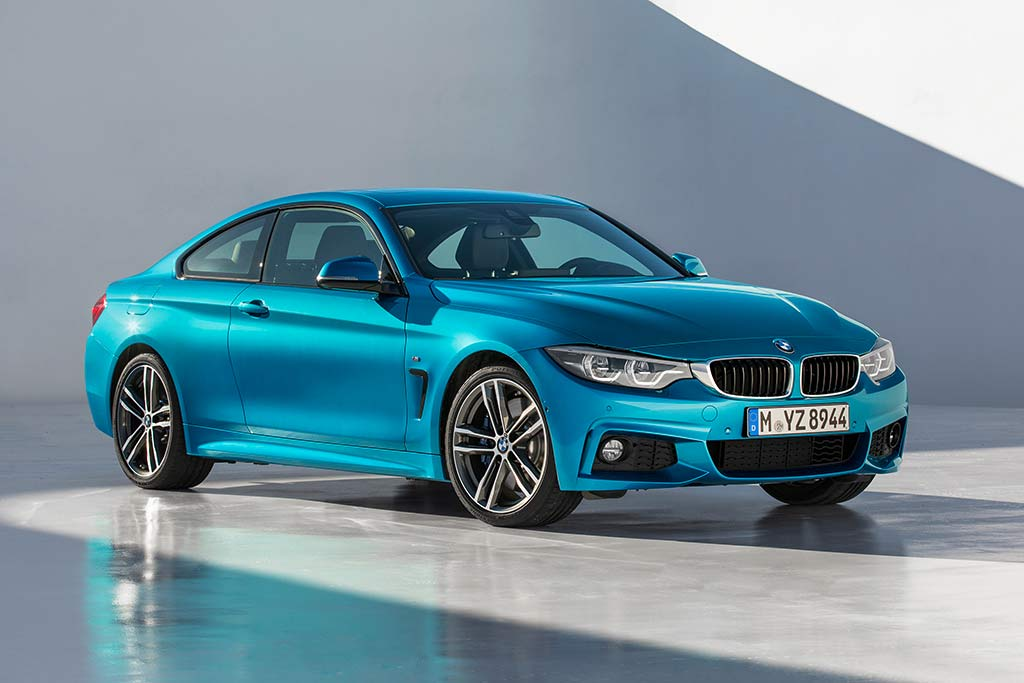bmw: (81, 179, 931, 528)
